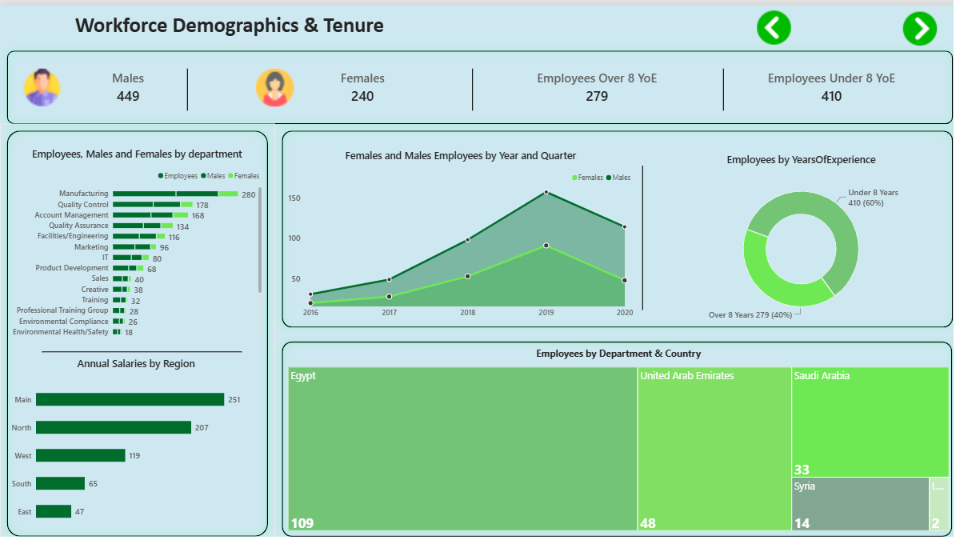

The page's visual inventory and layout, read from the dashboard file:
{"tool":"powerbi","page":{"name":"Workforce Demographics & Tenure","canvas":[1920,1080],"ordinal":1},"visuals":[{"type":"group","id":"g1","title":"Group 1","box":[0,12,1920,1064.3],"z":0},{"type":"textbox","box":[150,12,698,54],"z":0,"group":"g1"},{"type":"cardVisual","fields":{"Data":["_measures.Total Male Employees","_measures.Total Female Employees","_measures.Employees Over 8 Year","_measures.Employees Under 8 Year"]},"box":[24,98,1873.3,130],"z":1000},{"type":"shape","box":[0,76,1920,175],"z":2000,"group":"g1"},{"type":"image","box":[34,126,100,75],"z":2000},{"type":"image","box":[500,126,100,76],"z":3000},{"type":"treemap","title":"Employees by Department & Country","fields":{"Group":["dim_department.department","dim_location.department_country"],"Values":["_measures.Total Employees"]},"box":[576,682,1322,368],"z":4000},{"type":"shape","box":[338,126,74,84],"z":5000,"group":"g1"},{"type":"shape","box":[930,126,30,84],"z":5000},{"type":"shape","box":[1440,126,14,84],"z":6000},{"type":"image","box":[1806,12,68,68],"z":6001},{"type":"image","box":[1514,10,68,68],"z":6002},{"type":"shape","box":[0,236,550,840],"z":10000,"group":"g1"},{"type":"barChart","fields":{"Category":["dim_department.department"],"Y":["_measures.Total Employees","_measures.Total Male Employees","_measures.Total Female Employees"]},"box":[24,282,500,384],"z":11000,"group":"g1"},{"type":"shape","box":[84.9,681,399.9,20.8],"z":12000,"group":"g1"},{"type":"barChart","title":"Annual Salaries by Region","fields":{"Category":["dim_location.department_region"],"Y":["_measures.Total Employees"]},"box":[22.6,701.8,499.9,347.1],"z":13000,"group":"g1"},{"type":"shape","box":[550,236,1370,422],"z":14000,"group":"g1"},{"type":"lineChart","title":"Females and Males Employees by Year and Quarter","fields":{"Category":["dim_date.Date.Variation.Date Hierarchy.Year","dim_date.Date.Variation.Date Hierarchy.Quarter","dim_date.Date.Variation.Date Hierarchy.Month"],"Y":["_measures.Total Female Employees","_measures.Total Male Employees"]},"box":[576.7,286.7,690.4,343.3],"z":15000,"group":"g1"},{"type":"shape","box":[1273.3,320,22.6,288.6],"z":16000,"group":"g1"},{"type":"donutChart","fields":{"Category":["fact_employee_performance.YearsOfExperience"],"Y":["_measures.Total Employees"]},"box":[1305,293.3,592.3,343.3],"z":17000,"group":"g1"},{"type":"shape","box":[550,658,1368.3,418.3],"z":18000,"group":"g1"}]}

Visuals, with their boxes in screenshot pixels (x1, y1, x2, y2), scaled from the page's 1920x1080 canvas onto the 954x537 screenshot:
"Group 1" group: [x1=0, y1=6, x2=953, y2=535]
textbox: [x1=75, y1=6, x2=421, y2=33]
cardVisual - _measures.Total Male Employees x _measures.Total Female Employees: [x1=12, y1=49, x2=943, y2=113]
shape: [x1=0, y1=38, x2=953, y2=125]
image: [x1=17, y1=63, x2=67, y2=100]
image: [x1=248, y1=63, x2=298, y2=100]
"Employees by Department & Country" treemap: [x1=286, y1=339, x2=943, y2=522]
shape: [x1=168, y1=63, x2=205, y2=104]
shape: [x1=462, y1=63, x2=477, y2=104]
shape: [x1=716, y1=63, x2=722, y2=104]
image: [x1=897, y1=6, x2=931, y2=40]
image: [x1=752, y1=5, x2=786, y2=39]
shape: [x1=0, y1=117, x2=273, y2=535]
barChart - dim_department.department x _measures.Total Employees: [x1=12, y1=140, x2=260, y2=331]
shape: [x1=42, y1=339, x2=241, y2=349]
"Annual Salaries by Region" barChart: [x1=11, y1=349, x2=260, y2=522]
shape: [x1=273, y1=117, x2=953, y2=327]
"Females and Males Employees by Year and Quarter" lineChart: [x1=287, y1=143, x2=630, y2=313]
shape: [x1=633, y1=159, x2=644, y2=303]
donutChart - fact_employee_performance.YearsOfExperience x _measures.Total Employees: [x1=648, y1=146, x2=943, y2=317]
shape: [x1=273, y1=327, x2=953, y2=535]
